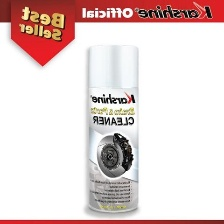aerosol_cans: (83, 41, 141, 216)
